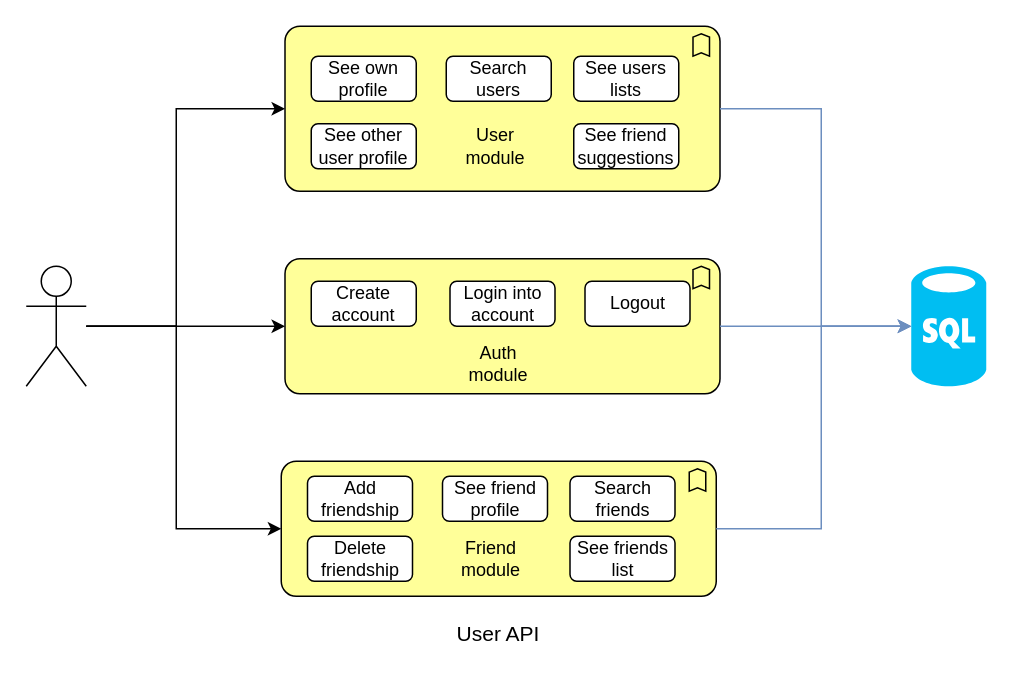
The diagram is 1029 pixels wide and 683 high, and some of its shapes have lost their labels. The shapes that lost their labels are listed below. From the top down, each one's centre as x and y in pixels, then its label:
pixel 55 325: Actor
pixel 948 326: User Databse
